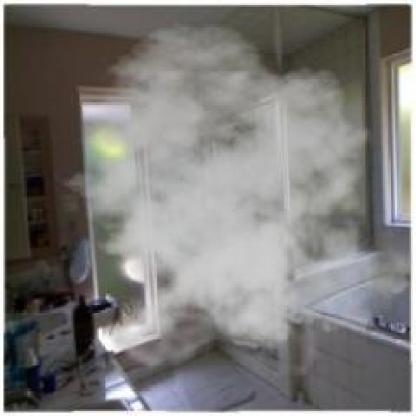Smoke: (47, 22, 412, 375)
